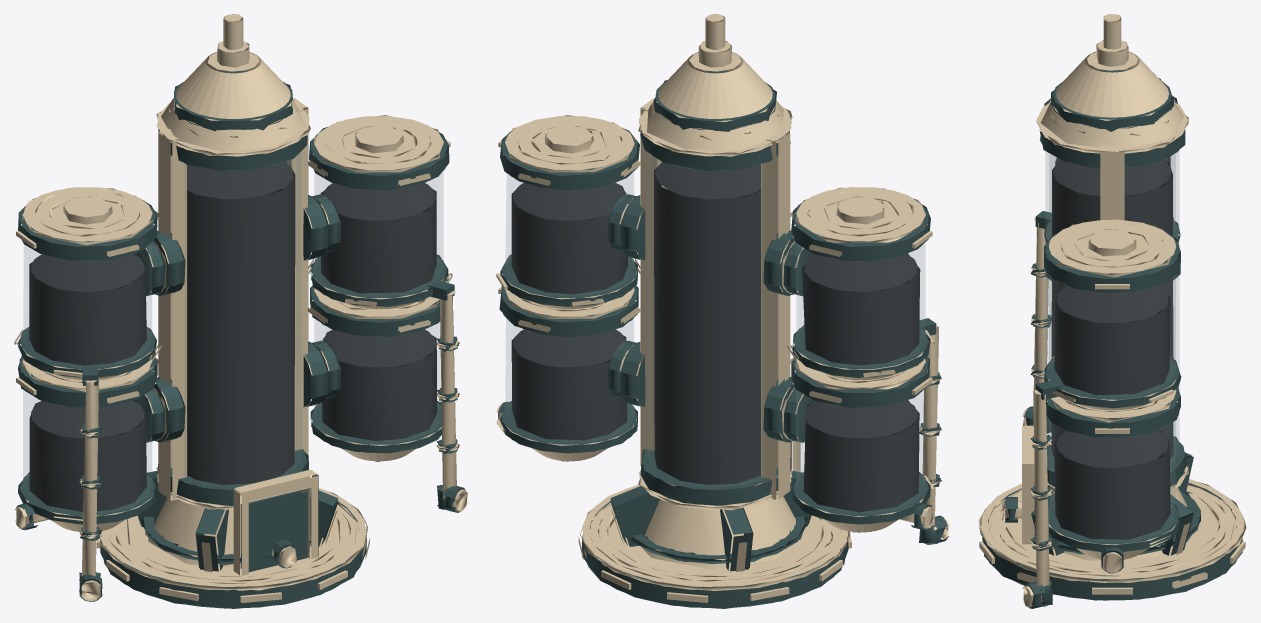
File: Vat_T4_lab2.glb
3 renders of one model, left to right at view 1: azimuth 30°, elevation 25°; view 2: azimuth 150°, elevation 25°; view 3: azimuth 270°, elevation 25°, orthographic.
Parts seen in each view (by area): view 1: Vat_T4; view 2: Vat_T4; view 3: Vat_T4.
Part boxes in pixels (left/top/right/bottom): Vat_T4: left=14, top=14, right=467, bottom=608; Vat_T4: left=496, top=14, right=949, bottom=608; Vat_T4: left=978, top=14, right=1246, bottom=608.
Bounding box in the file's own units: 7.65 × 9.21 × 4.2.
